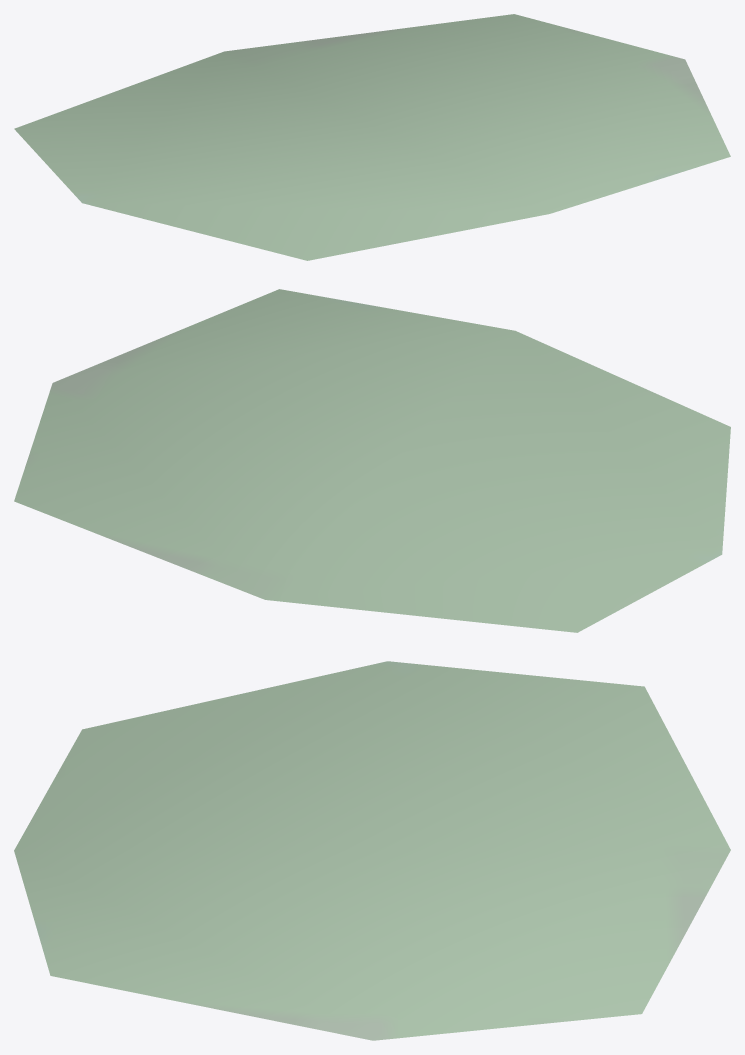
File: TROLLHOLE02_HOLECAP08.fbx
3 views of the same model, one above another, from view 1: azimuth 30°, elevation 25°; view 2: azimuth 150°, elevation 25°; view 3: azimuth 270°, elevation 25° (orthographic). The views are drawn at different scales.
Visible parts, largest first — view 1: TROLLHOLE02_HOLECAP08; view 2: TROLLHOLE02_HOLECAP08; view 3: TROLLHOLE02_HOLECAP08.
Boxes of the visible parts, bbox=[...] form: TROLLHOLE02_HOLECAP08: bbox=[14, 14, 730, 260]; TROLLHOLE02_HOLECAP08: bbox=[14, 289, 730, 632]; TROLLHOLE02_HOLECAP08: bbox=[14, 661, 730, 1040].
Bounding box in the file's own units: 27551 × 1111 × 21843.
Materials: 1 (1 with a texture image).
